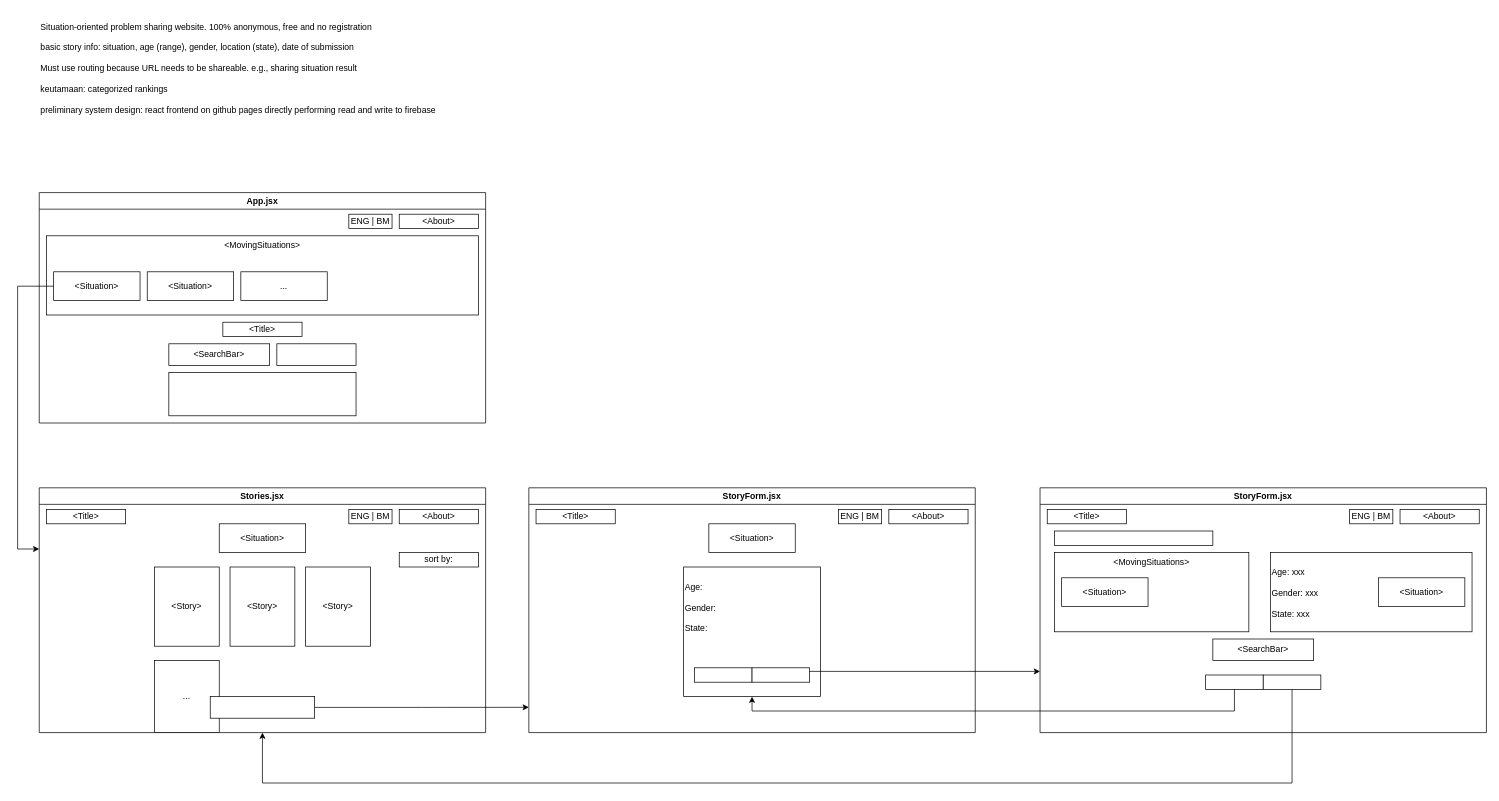
This 1499x801 diagram has some shape labels left out. Here are the shapes that lost their labels. From the top down, the centre of each, then its label:
At (316,354): "<AddSituation>".
At (262,394): "<ShortPrivacyMessage>".
At (1133,537): "Choose other situations in your life:".
At (723,674): "Clear".
At (780,674): "Next".
At (1234,681): "Back".
At (1292,681): "Done".
At (262,707): "<AddStory>".
